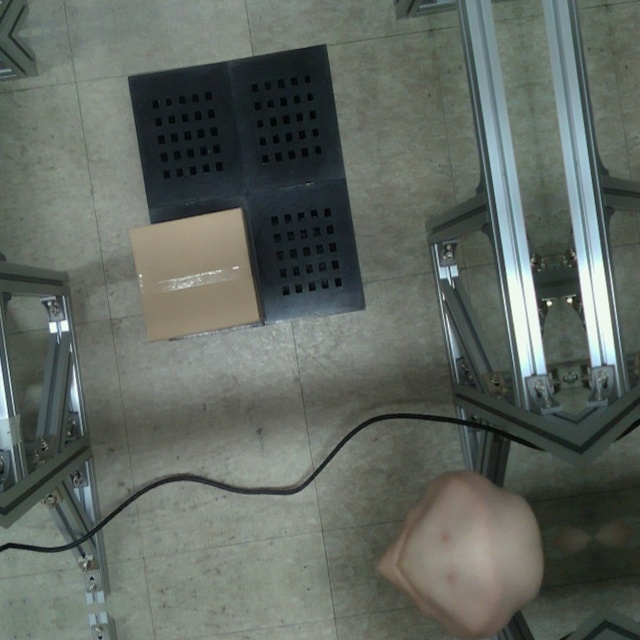box: (127, 204, 261, 343)
pallet: (118, 39, 372, 333)
